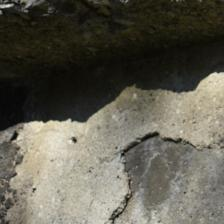Crack: (54, 64, 170, 157)
